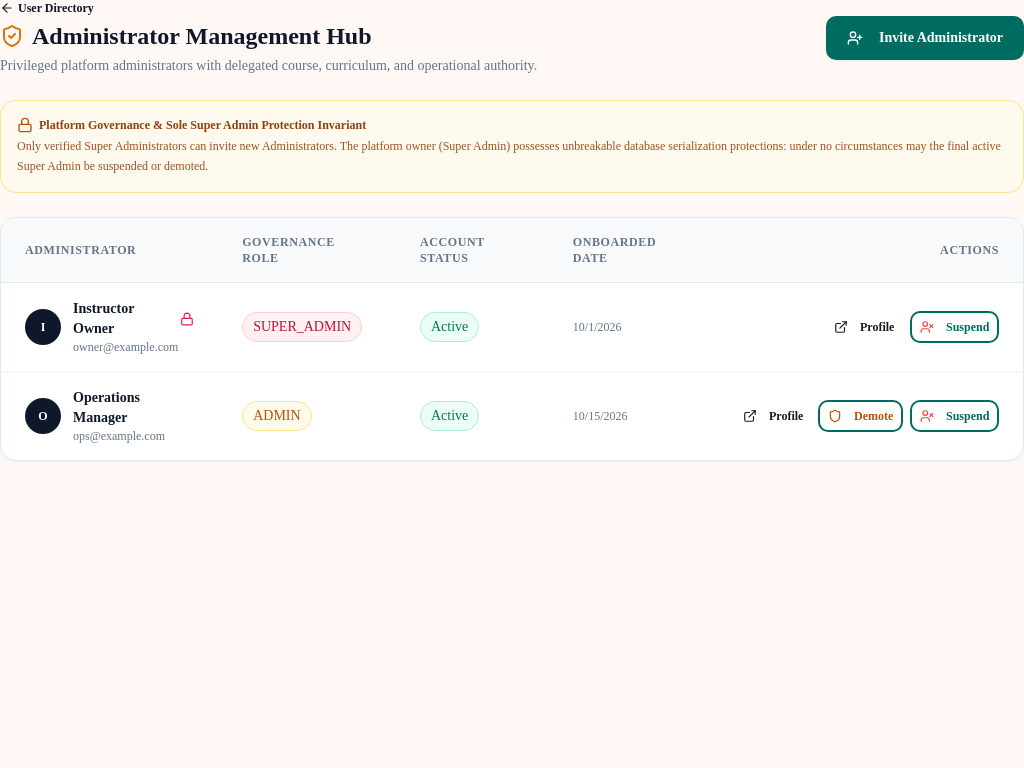
SA-02: Complete User, Admin & Staff Management Unit Tests › Administrator Hub Page Component › renders administrators roster and invite modal
The width and height of the screenshot is (1024, 768).
Expected: the heading "Administrator Management Hub" is shown, top-left (0, 23), bottom-right (372, 49)
Expected: the text "Instructor Owner" is shown, top-left (73, 299), bottom-right (194, 339)
Click Invite Administrator
Click the button "Invite Administrator" at coordinates (925, 38), box top-left (826, 16), bottom-right (1023, 60)
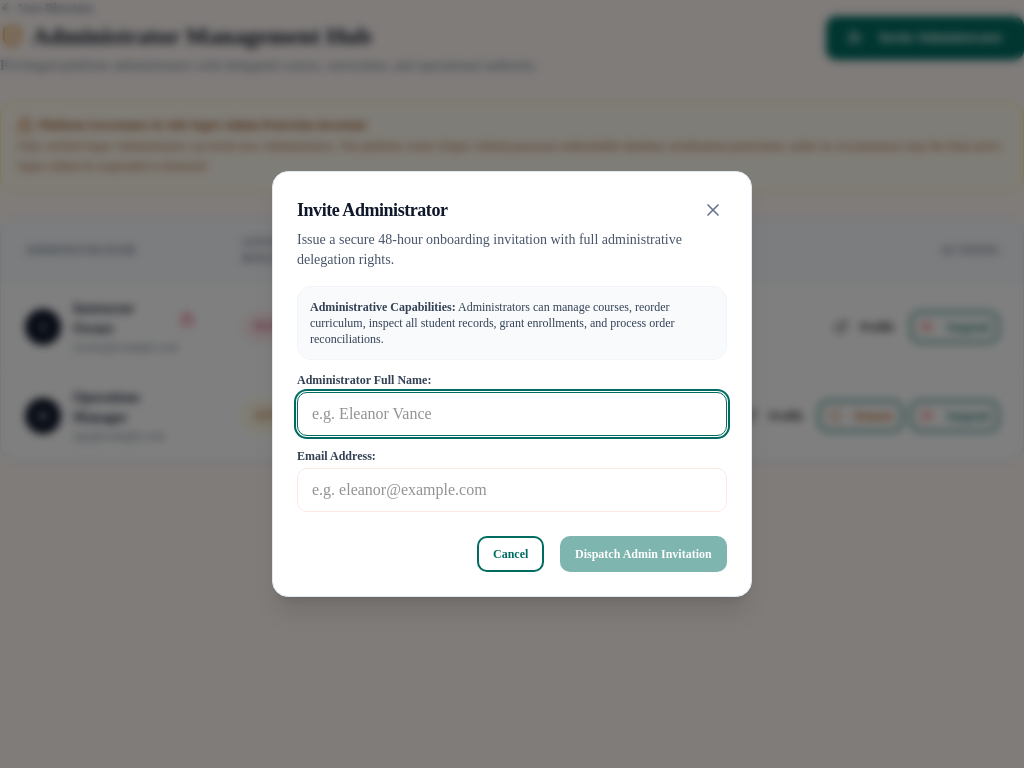
Now the heading "Invite Administrator" is shown, box top-left (297, 200), bottom-right (448, 220)
Now the field with placeholder "e.g. Eleanor Vance" is shown, box top-left (297, 392), bottom-right (727, 436)
